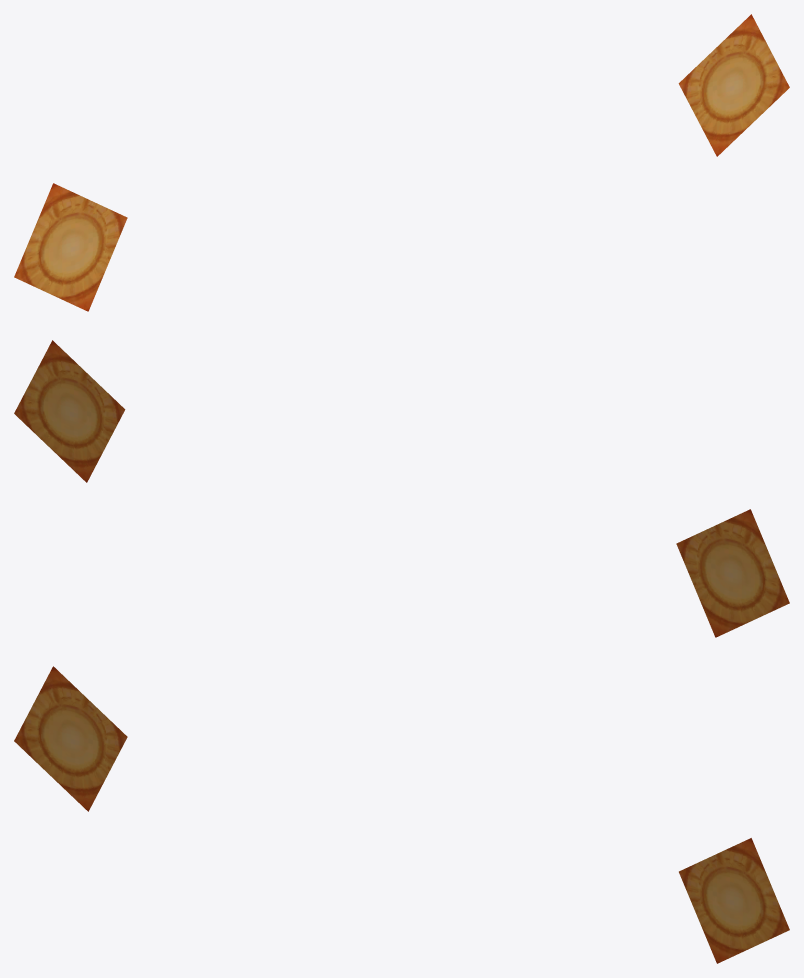
Rendered from hutt_fighter_heavy_booster_s02_on_l3.fbx.
3 views of the same model, one above another, from view 1: azimuth 30°, elevation 25°; view 2: azimuth 150°, elevation 25°; view 3: azimuth 330°, elevation 25° (orthographic).
Parts seen in each view (by area): view 1: mesh_node; view 2: mesh_node; view 3: mesh_node.
Part boxes in pixels (x1,y1,x2,y2): mesh_node: (14, 14, 789, 311); mesh_node: (14, 340, 789, 637); mesh_node: (14, 666, 789, 963).
Size of the model in its own units: 8.62 by 1.46 by 0.
Materials: 1 (1 with a texture image).
